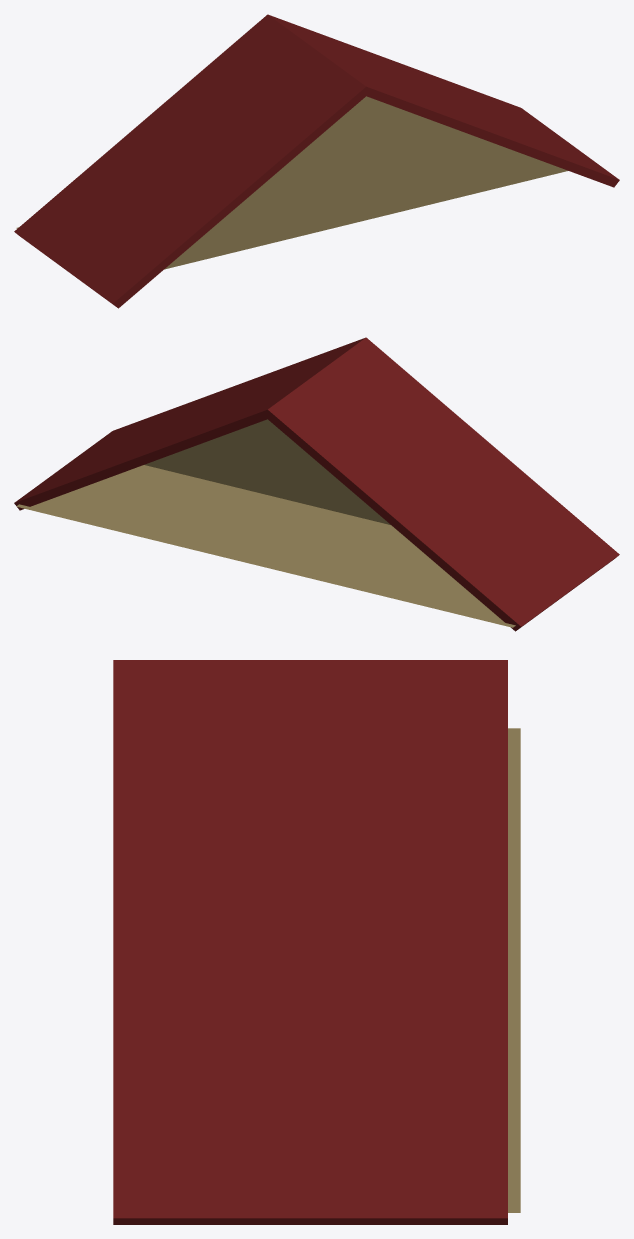
File: Roof_Small.fbx
3 renders of one model, top to bottom at view 1: azimuth 30°, elevation 25°; view 2: azimuth 150°, elevation 25°; view 3: azimuth 270°, elevation 25°, orthographic. The views are drawn at different scales.
Visible parts, largest first — view 1: ROOF SMALL; view 2: ROOF SMALL; view 3: ROOF SMALL.
Boxes of the visible parts, x1,y1,x2,y2 form: ROOF SMALL: (14,14,619,308); ROOF SMALL: (14,337,619,631); ROOF SMALL: (113,660,520,1224).
Size of the model in its own units: 314 by 95.43 by 109.
